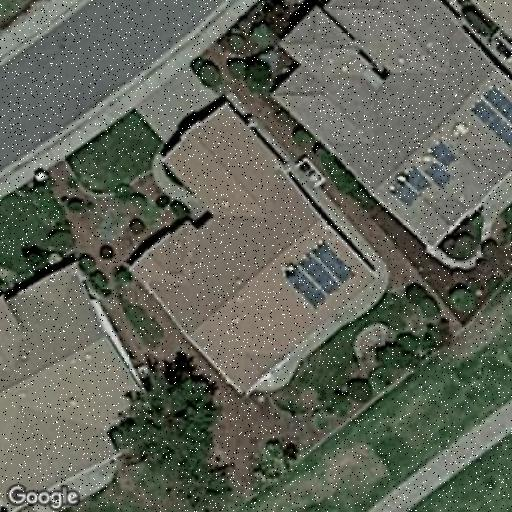solar-panel: (282, 238, 356, 310), (389, 142, 459, 206), (471, 84, 511, 154)
